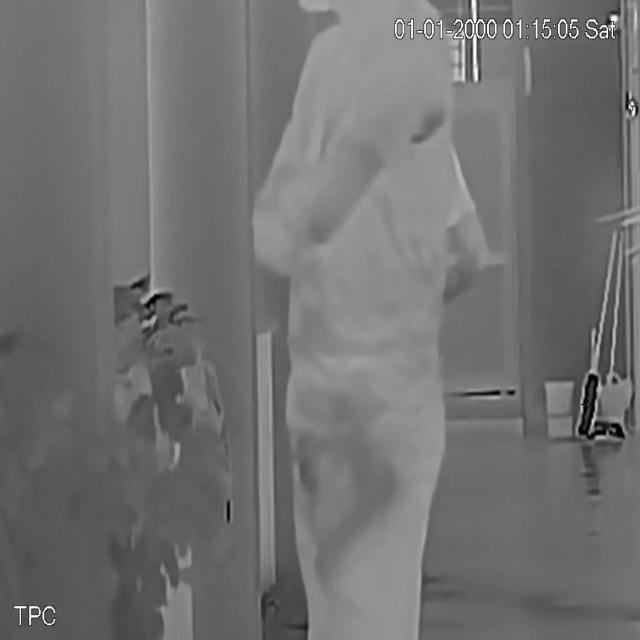Weapon: (300, 410, 404, 581)
